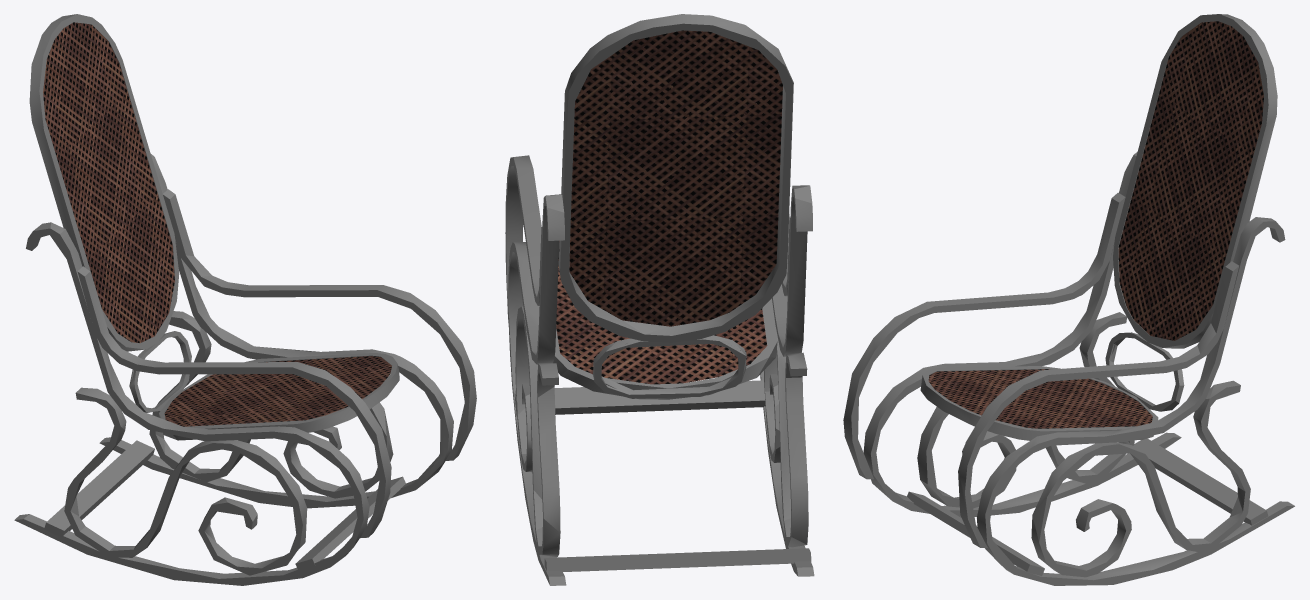
The model's file is mecedora.FBX.
The picture shows the model from 3 angles, left to right: view 1: azimuth 30°, elevation 25°; view 2: azimuth 150°, elevation 25°; view 3: azimuth 270°, elevation 25°; orthographic projection. The views are drawn at different scales.
Parts seen in each view (by area): view 1: mecedora; view 2: mecedora; view 3: mecedora.
Boxes of the visible parts, x1,y1,x2,y2 form: mecedora: [14, 14, 476, 585]; mecedora: [505, 14, 814, 585]; mecedora: [843, 14, 1294, 585].
Size of the model in its own units: 33.86 by 44.15 by 37.8.
